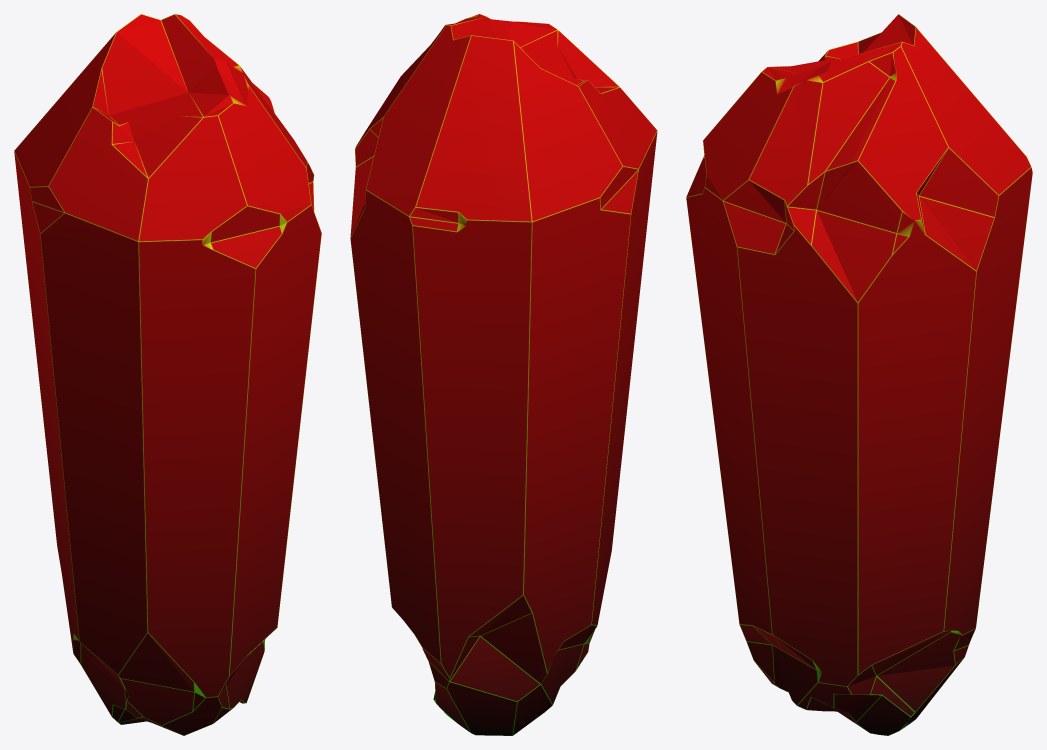
Rendered from crystal.glb.
3 renders of one model, left to right at view 1: azimuth 30°, elevation 25°; view 2: azimuth 150°, elevation 25°; view 3: azimuth 270°, elevation 25°, orthographic.
Visible parts, largest first — view 1: geo; view 2: geo; view 3: geo.
Part boxes in pixels (<box>): geo: <box>14,14,321,735</box>; geo: <box>350,14,657,735</box>; geo: <box>686,14,1032,735</box>.
Size of the model in its own units: 0.874 by 2.28 by 1.03.
